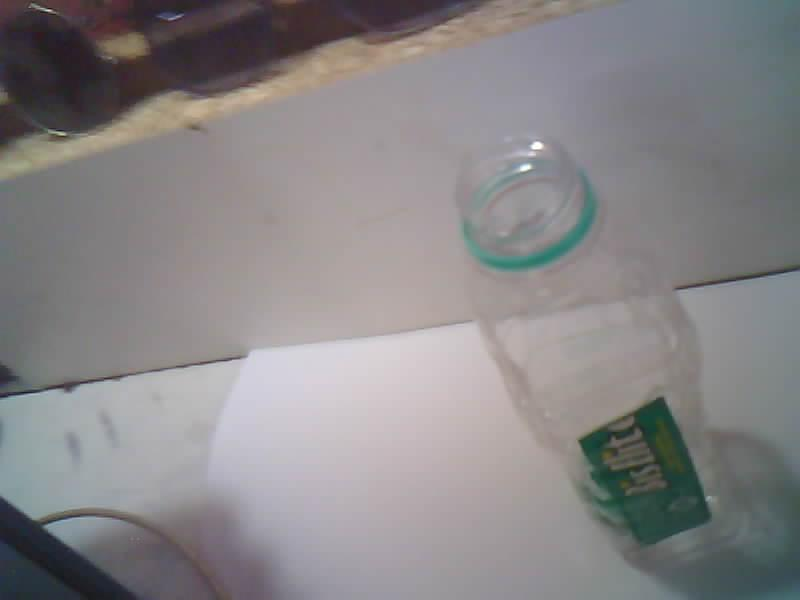non-biodegradable: (458, 135, 735, 561)
